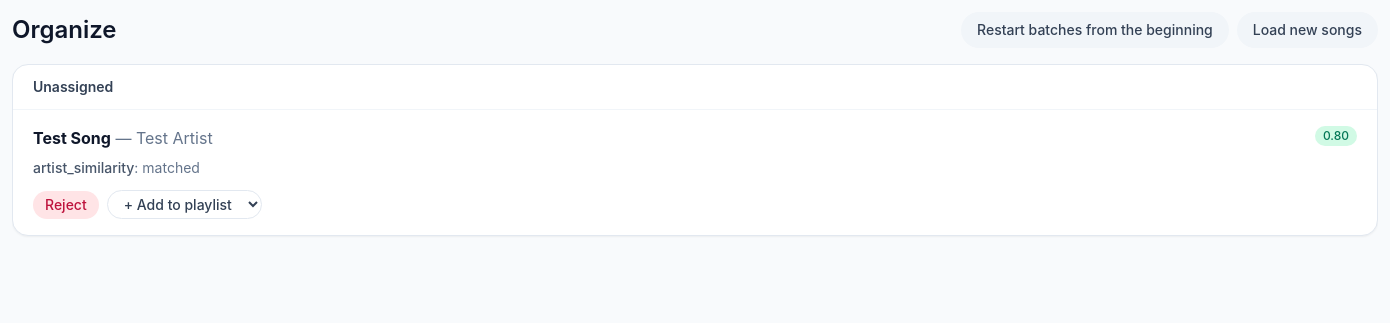
Test: ReviewQueue › moves an unassigned song into the chosen playlist's group, still pending approval
This screenshot has width=1390, height=323.
Expected: the list item with test id "queue-item-1" is shown, [13,110,1377,235]
Expected: the heading "Unassigned" is shown, [33,77,113,97]
Select "Chill" in the dropdown named "Add \"Test Song\" to a playlist" at (184, 204), box [107,190,262,219]
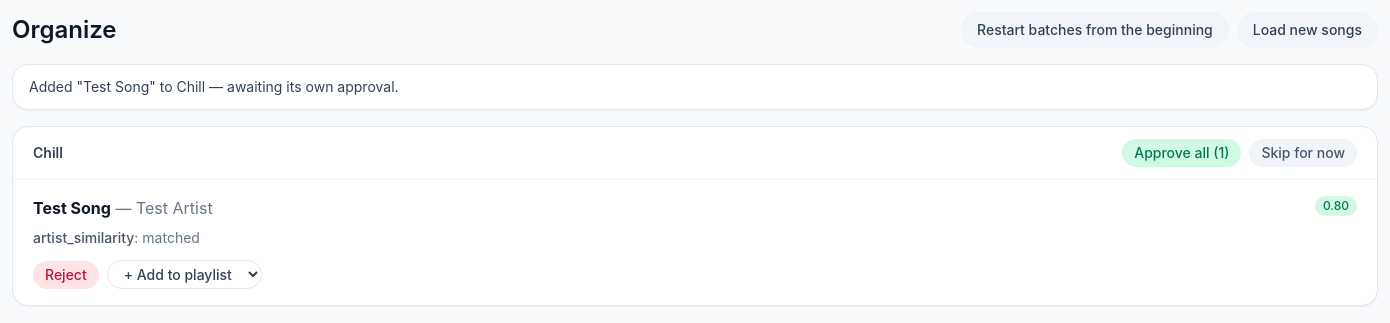
Expected: the list item with test id "queue-item-1" is shown, [13,180,1377,305]
Expected: the heading "Chill" is shown, [33,143,63,163]
Expected: the heading "Unassigned" is gone
